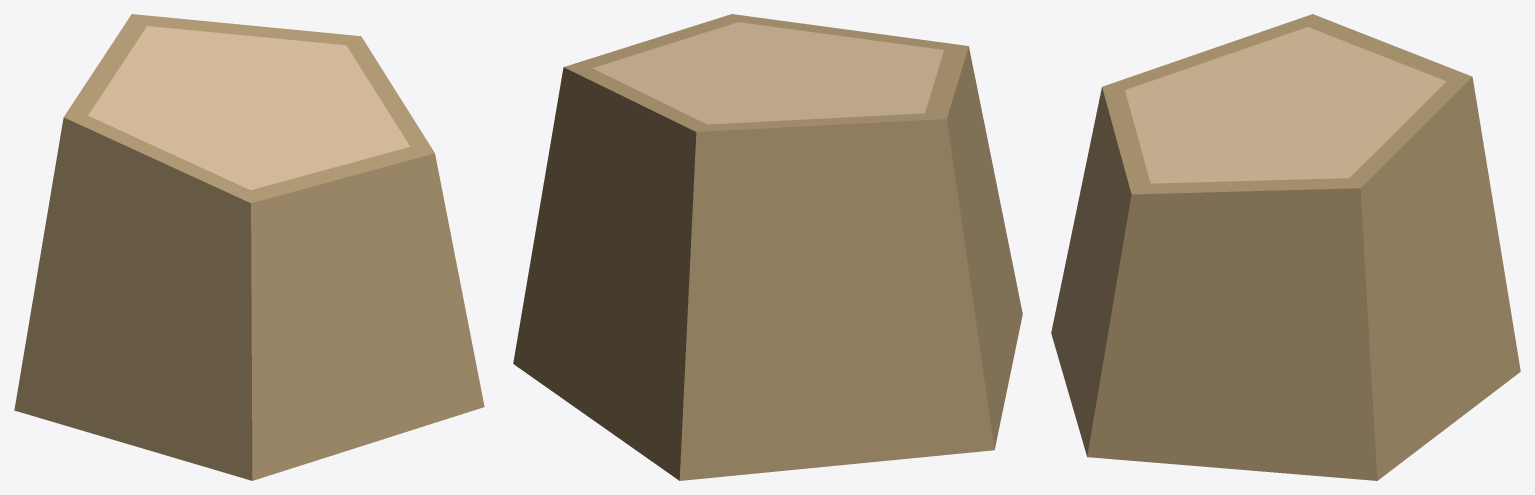
The model's file is Random_Stump_02.fbx.
The picture shows the model from 3 angles, left to right: view 1: azimuth 30°, elevation 25°; view 2: azimuth 150°, elevation 25°; view 3: azimuth 270°, elevation 25°; orthographic projection. The views are drawn at different scales.
Visible parts, largest first — view 1: Random_Stump_02; view 2: Random_Stump_02; view 3: Random_Stump_02.
Boxes of the visible parts, x1,y1,x2,y2 form: Random_Stump_02: [14, 14, 484, 480]; Random_Stump_02: [513, 14, 1022, 480]; Random_Stump_02: [1051, 14, 1520, 480].
Size of the model in its own units: 68.03 by 47.32 by 67.29.
